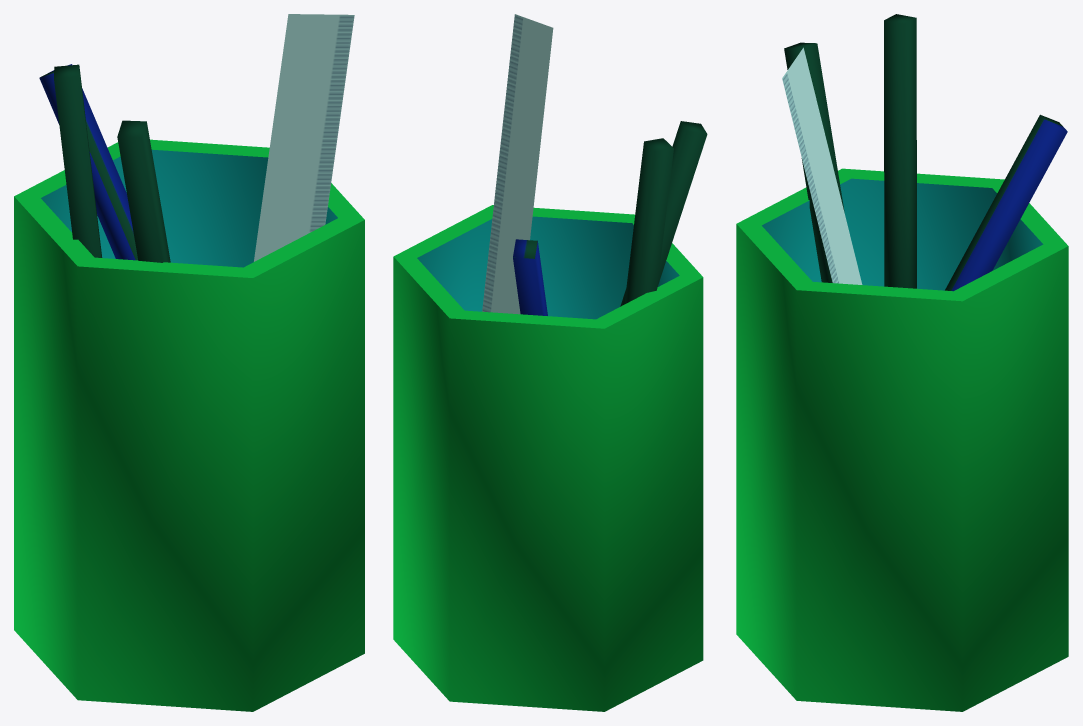
File: pencil.fbx
3 views of the same model, side by side, from view 1: azimuth 30°, elevation 25°; view 2: azimuth 150°, elevation 25°; view 3: azimuth 270°, elevation 25° (orthographic). The views are drawn at different scales.
Visible parts, largest first — view 1: Pencil; view 2: Pencil; view 3: Pencil.
Part boxes in pixels (bbox=[...]): Pencil: bbox=[14, 14, 364, 711]; Pencil: bbox=[393, 14, 707, 711]; Pencil: bbox=[736, 14, 1068, 711].
Bounding box in the file's own units: 63.26 × 138 × 66.92.
1 material, 1 textured.
